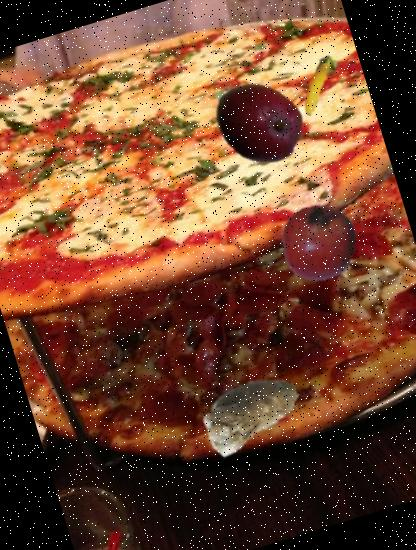Banana: (278, 46, 354, 124)
Ginger: (188, 348, 315, 476)
Mango: (202, 65, 316, 179)
Pomegranate: (271, 194, 367, 290)
